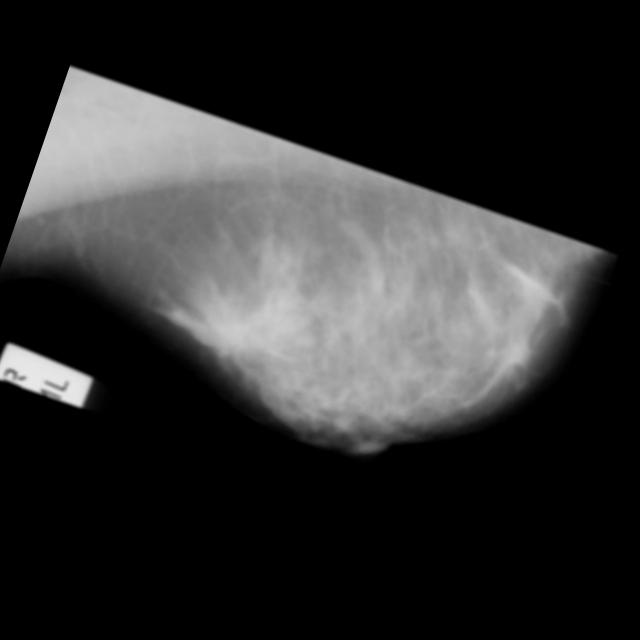SPIC: (175, 258, 324, 406)
